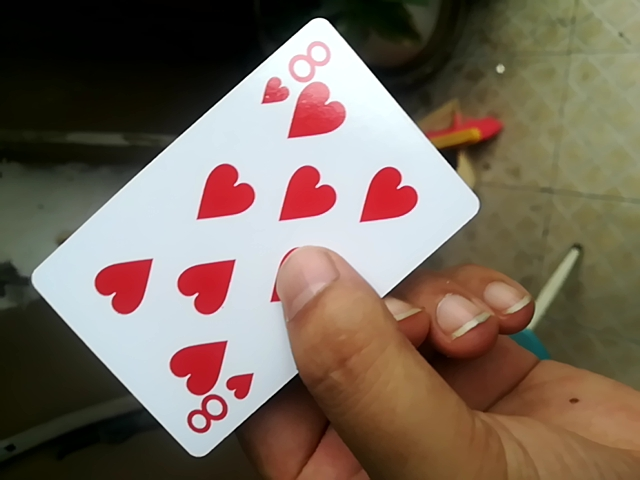hx 8: (20, 24, 482, 450)
